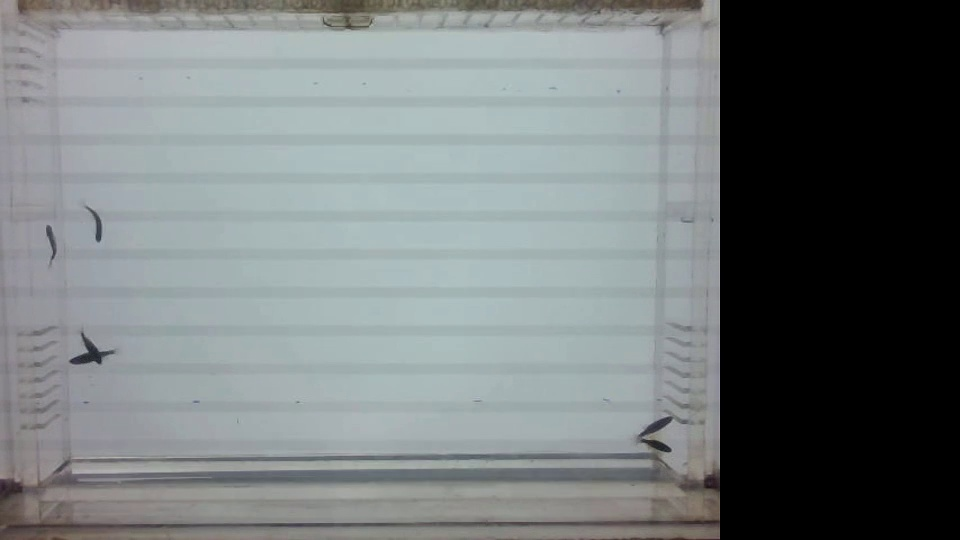fish: (76, 198, 108, 246), (628, 429, 676, 457), (632, 408, 676, 436), (38, 224, 62, 272), (65, 348, 126, 364), (80, 332, 104, 368)
